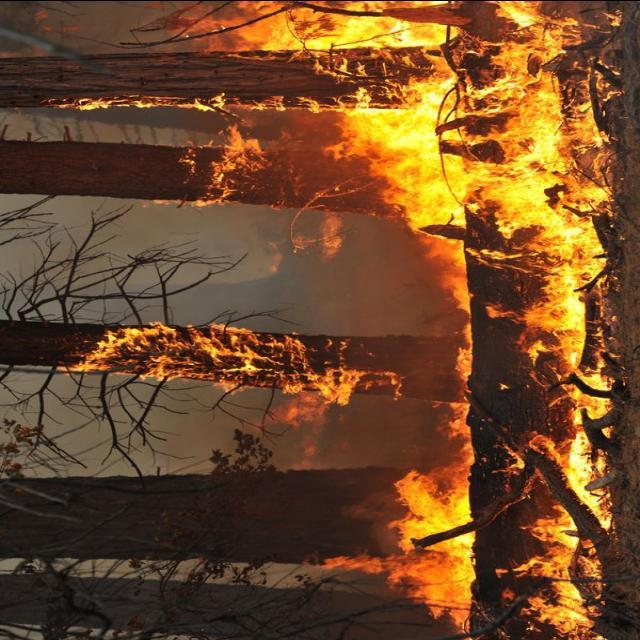Fire: (62, 266, 616, 630), (141, 0, 622, 256)
